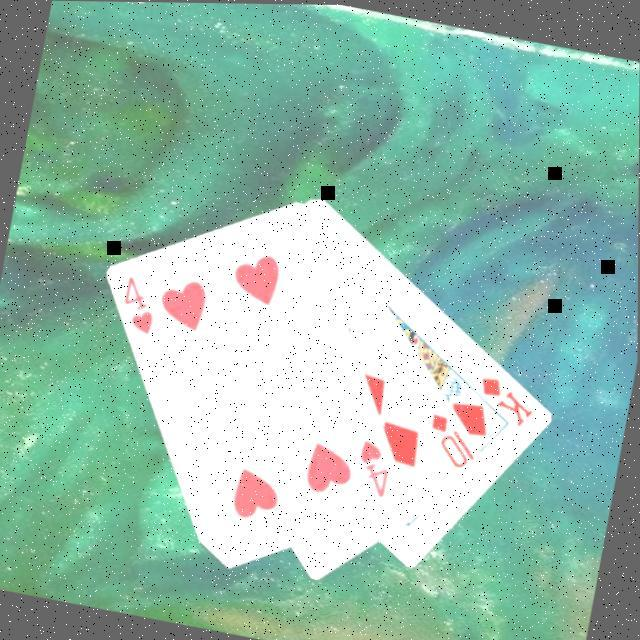10D: (422, 404, 488, 472)
4H: (116, 268, 166, 337), (352, 432, 400, 500)
KD: (472, 368, 544, 429)
